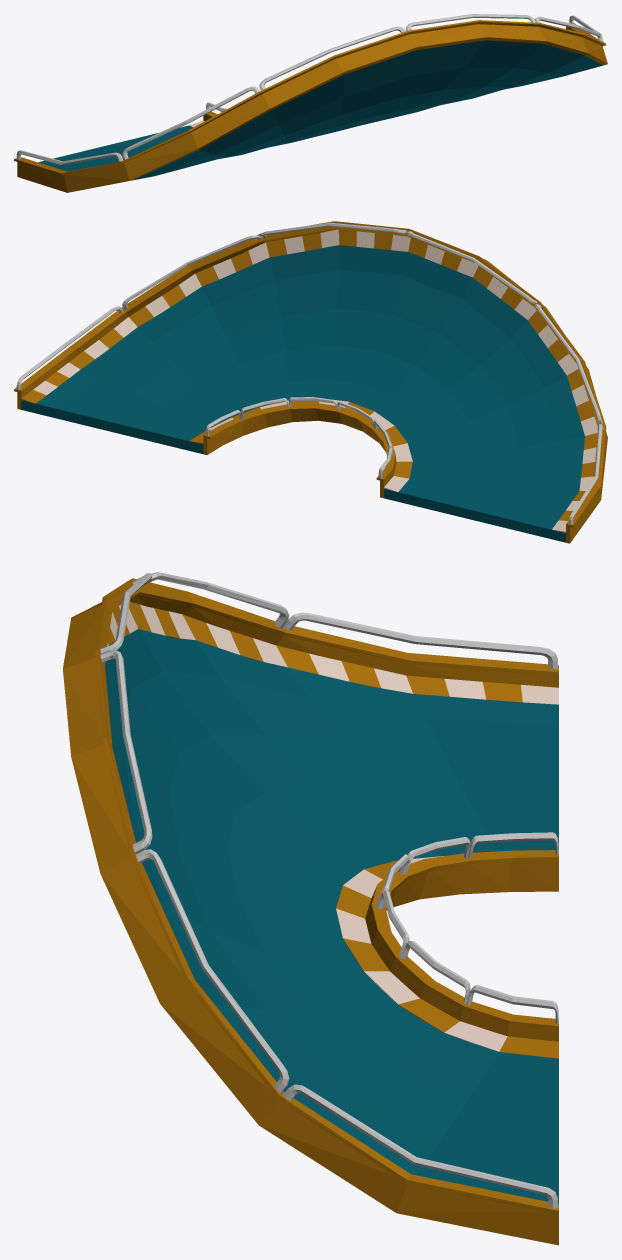
Rendered from curveLeft-180-Banked-45.FBX.
3 views of the same model, one above another, from view 1: azimuth 30°, elevation 25°; view 2: azimuth 150°, elevation 25°; view 3: azimuth 270°, elevation 25° (orthographic). The views are drawn at different scales.
Visible parts, largest first — view 1: curveLeft-180-banked-45, wall_r; view 2: curveLeft-180-banked-45, curbs_r, wall_r, wall_l, curbs_l; view 3: curveLeft-180-banked-45, wall_r, wall_l, curbs_r, curbs_l.
Boxes of the visible parts, left/top/right/bottom form: curveLeft-180-banked-45: left=38, top=40, right=603, bottom=180; wall_r: left=14, top=14, right=607, bottom=192; curveLeft-180-banked-45: left=21, top=245, right=584, bottom=542; curbs_r: left=21, top=229, right=597, bottom=532; wall_r: left=14, top=221, right=607, bottom=543; wall_l: left=203, top=397, right=396, bottom=498; curbs_l: left=189, top=400, right=412, bottom=491; curveLeft-180-banked-45: left=105, top=629, right=558, bottom=1203; wall_r: left=63, top=572, right=558, bottom=1245; wall_l: left=365, top=832, right=558, bottom=1041; curbs_r: left=104, top=601, right=558, bottom=704; curbs_l: left=336, top=856, right=558, bottom=1058.
Size of what is drawn, in the model's own units: 589 by 166 by 226.
